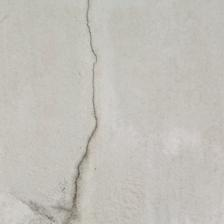Crack: (35, 2, 74, 210)
